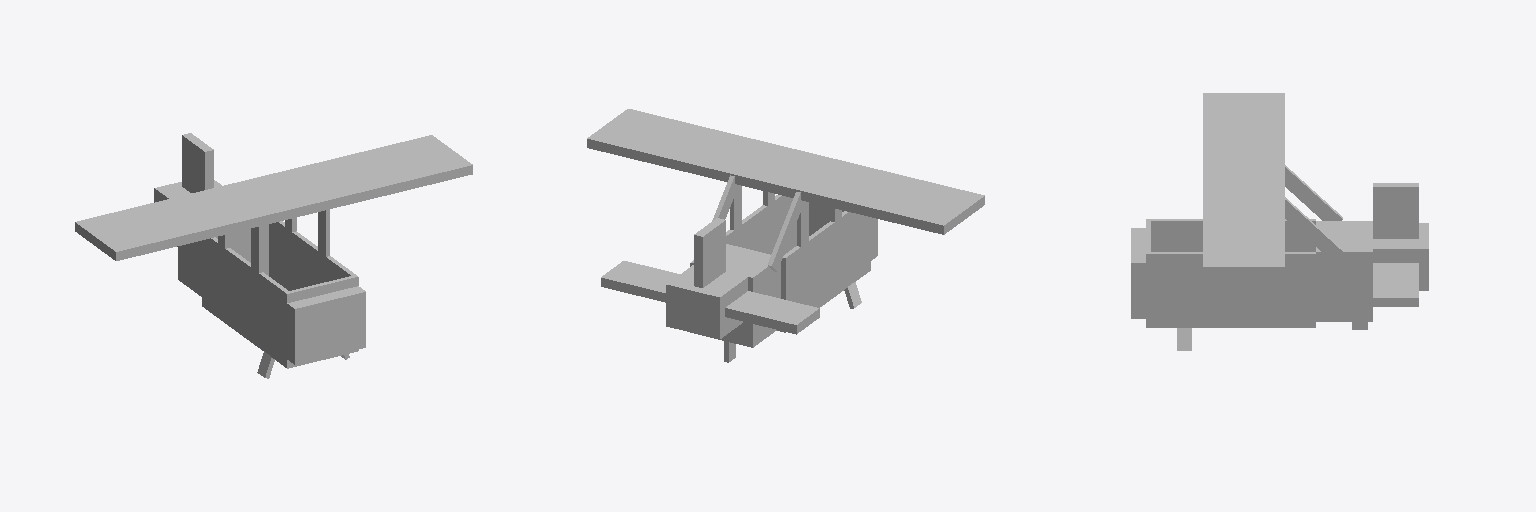
File: bush_plane.obj
3 renders of one model, left to right at view 1: azimuth 30°, elevation 25°; view 2: azimuth 150°, elevation 25°; view 3: azimuth 270°, elevation 25°, orthographic.
Parts seen in each view (by area): view 1: cube; view 2: cube; view 3: cube.
Boxes of the visible parts, <box> form: cube: <box>75,133,472,378</box>; cube: <box>587,109,984,362</box>; cube: <box>1131,93,1428,350</box>.
Size of the model in its own units: 5 by 2.03 by 3.62.